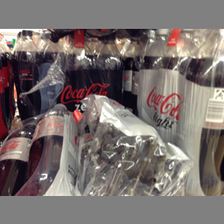soda: (28, 101, 77, 196), (1, 116, 35, 194), (41, 34, 69, 111), (14, 30, 40, 112), (95, 35, 123, 103)
